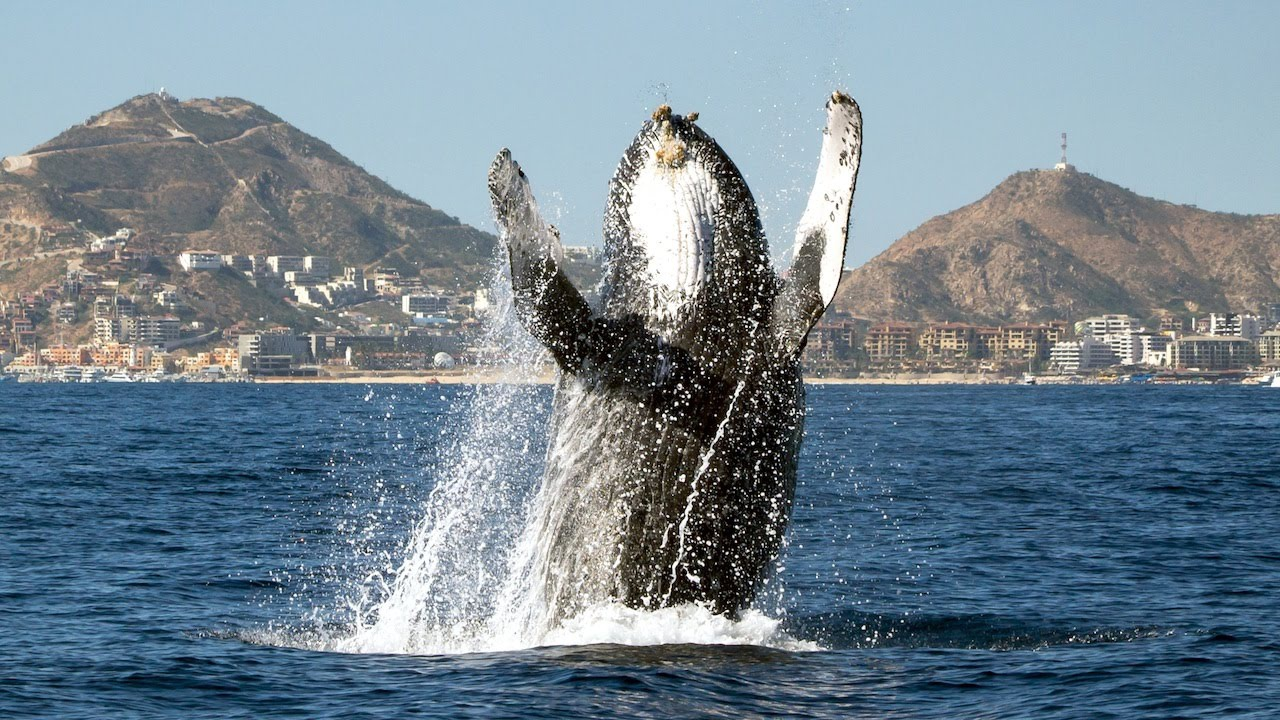humpback: (561, 100, 795, 613)
